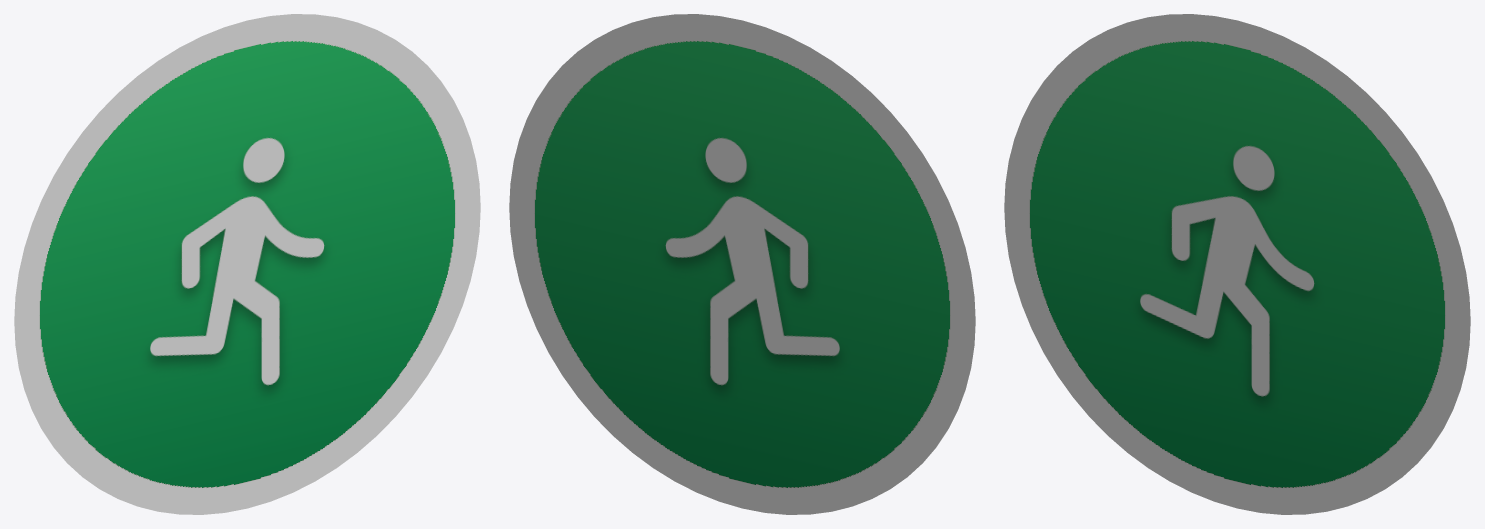
File: exit_sign.obj
The picture shows the model from 3 angles, left to right: view 1: azimuth 30°, elevation 25°; view 2: azimuth 150°, elevation 25°; view 3: azimuth 330°, elevation 25°; orthographic projection.
Parts seen in each view (by area): view 1: badge; view 2: badge; view 3: badge.
Part boxes in pixels (<box>): badge: <box>14,14,480,514</box>; badge: <box>509,14,975,514</box>; badge: <box>1004,14,1470,514</box>.
Bounding box in the file's own units: 1 × 1 × 0.
Materials: 1 (1 with a texture image).
